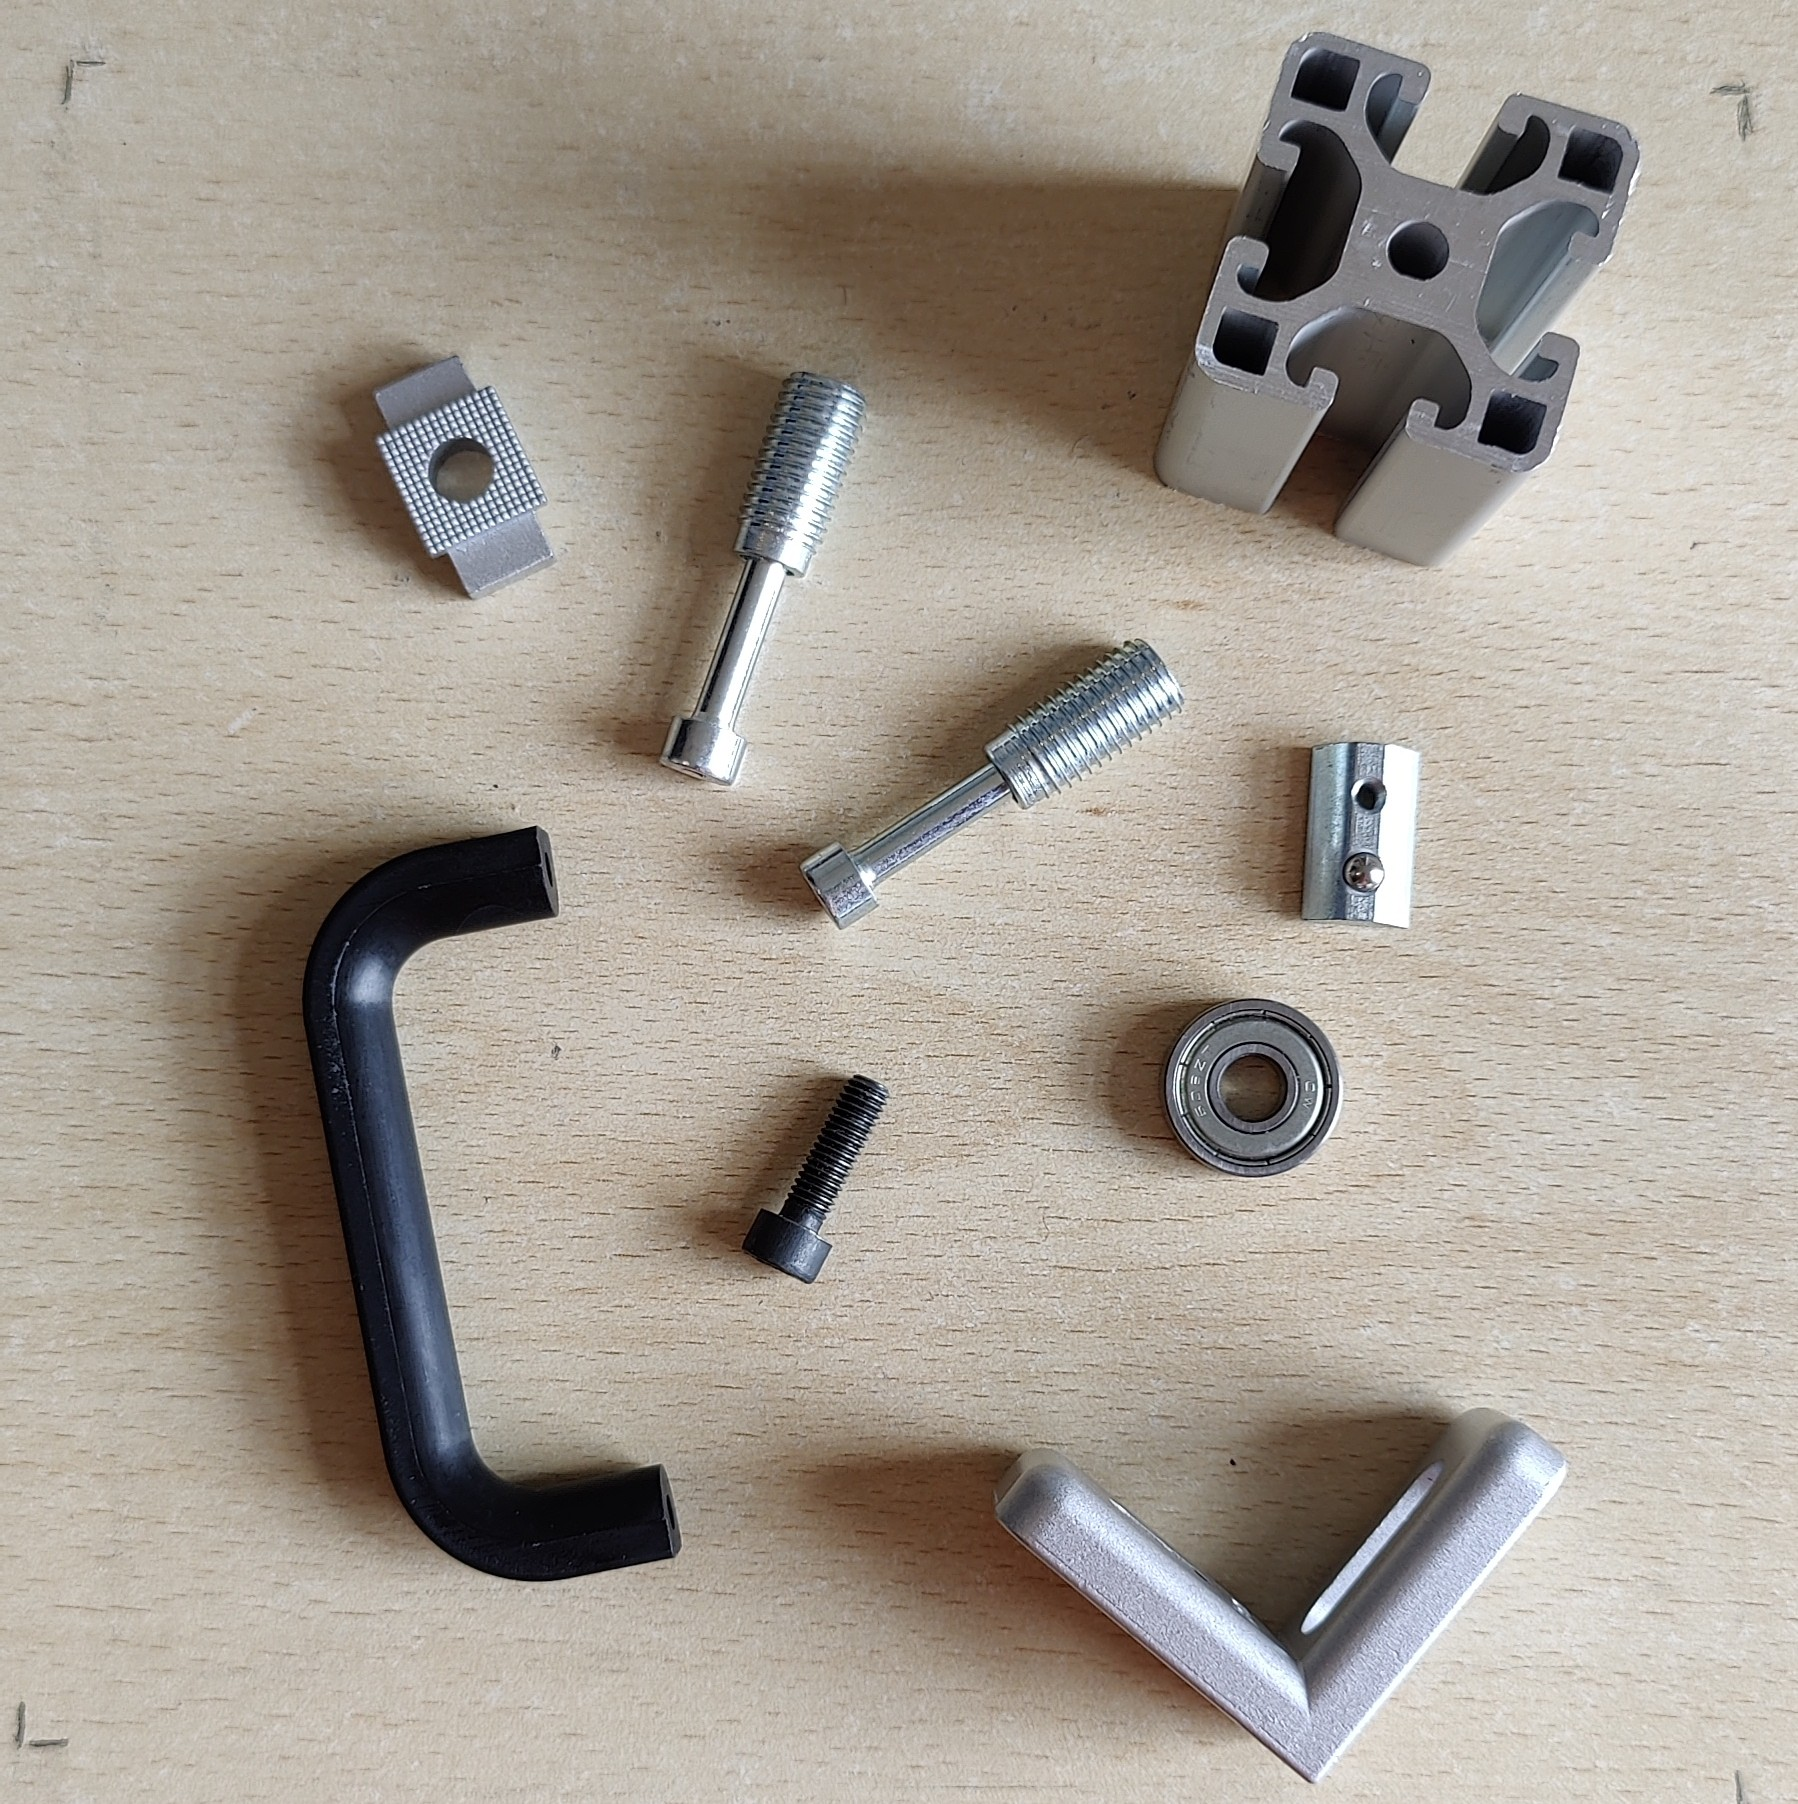Aluminium Extension: (1153, 33, 1643, 571)
Ball Bearing: (1158, 996, 1344, 1179)
Multiwinkel: (990, 1406, 1569, 1788)
Pull Handle: (300, 821, 683, 1585)
Shoulder Socket Head Cap Screw: (799, 637, 1189, 933), (655, 367, 869, 790)
Socket Head Cap Screw: (739, 1072, 891, 1289)
T Nut Square: (370, 347, 560, 602)
T Spring Nut: (1296, 737, 1423, 933)
